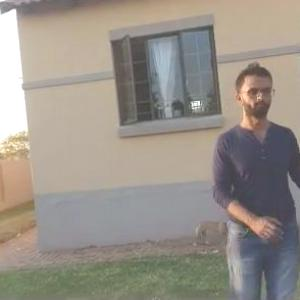follow: (206, 53, 300, 299)
null: (188, 215, 230, 249)
